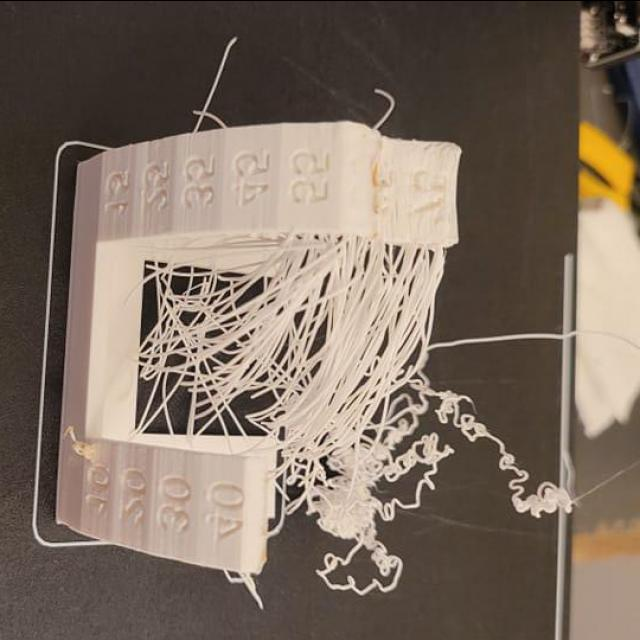Spaghetti: (146, 264, 392, 398), (307, 392, 394, 576), (384, 396, 434, 476), (396, 255, 441, 342), (505, 453, 561, 517), (432, 378, 486, 444)
